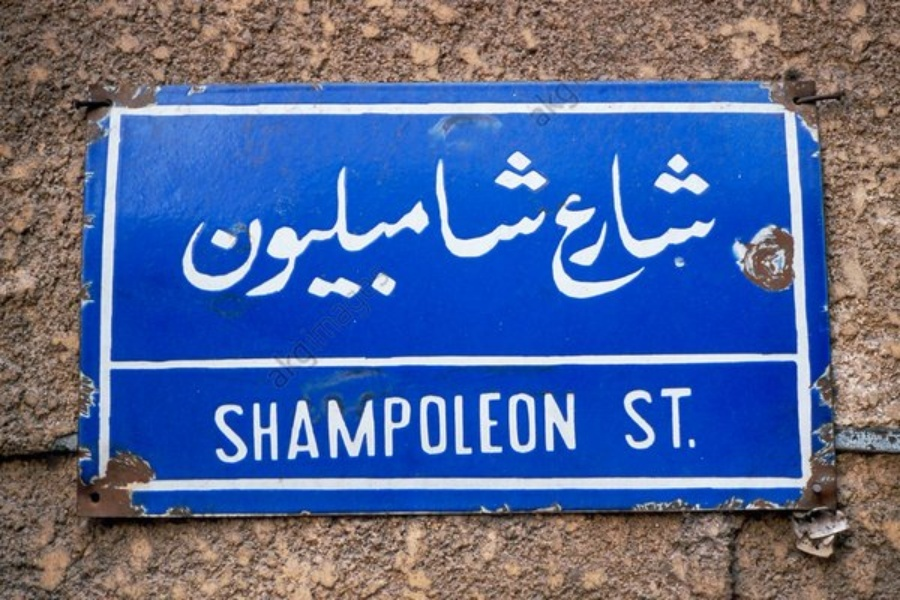text: (561, 130, 576, 302), (577, 130, 592, 302), (593, 130, 608, 302), (609, 130, 624, 302), (625, 130, 640, 302), (641, 130, 656, 302), (657, 130, 672, 302), (673, 130, 688, 302), (689, 130, 704, 302), (705, 130, 720, 302), (193, 142, 208, 307), (209, 142, 224, 307), (225, 142, 240, 307), (241, 142, 256, 307), (257, 142, 272, 307), (273, 142, 288, 307), (289, 142, 304, 307), (305, 142, 320, 307), (321, 142, 336, 307), (337, 142, 352, 307), (353, 142, 368, 307), (369, 142, 384, 307), (385, 142, 400, 307), (401, 142, 416, 307), (417, 142, 432, 307), (433, 142, 448, 307), (449, 142, 464, 307), (465, 142, 480, 307), (481, 142, 496, 307), (497, 142, 512, 307), (513, 142, 528, 307), (529, 142, 544, 307), (182, 142, 192, 307), (225, 388, 240, 464), (241, 388, 256, 464), (257, 388, 272, 464), (273, 388, 288, 464), (289, 388, 304, 464), (305, 388, 320, 464), (321, 388, 336, 464), (337, 388, 352, 464), (353, 388, 368, 464), (369, 388, 384, 464), (385, 388, 400, 464), (401, 388, 416, 464), (417, 388, 432, 464), (433, 388, 448, 464), (449, 388, 464, 464), (465, 388, 480, 464), (481, 388, 496, 464), (497, 388, 512, 464), (513, 388, 528, 464), (529, 388, 544, 464), (545, 388, 560, 464), (561, 388, 576, 464), (625, 386, 640, 452), (641, 386, 656, 452), (657, 386, 672, 452), (673, 386, 688, 452), (545, 142, 551, 307), (212, 388, 224, 464), (689, 386, 697, 452), (721, 130, 724, 302), (577, 388, 580, 464), (622, 386, 624, 452)
